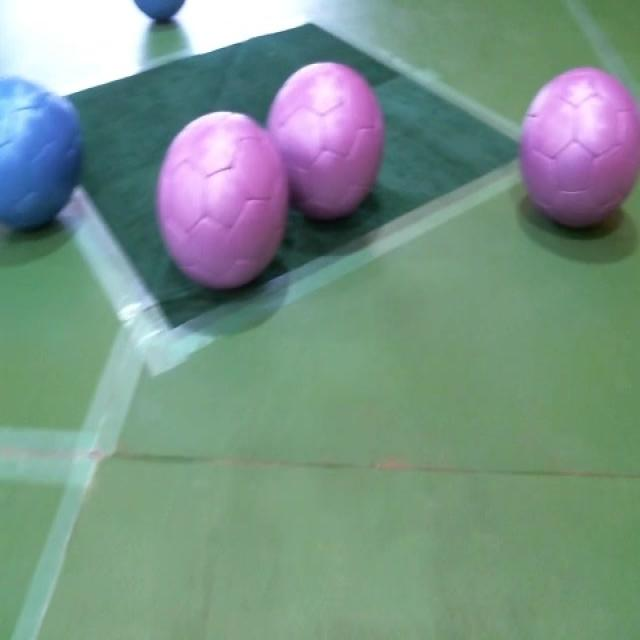blue_ball: (0, 78, 84, 232), (130, 0, 192, 24)
purple_ball: (156, 109, 287, 287), (518, 70, 640, 232), (268, 62, 386, 218)
